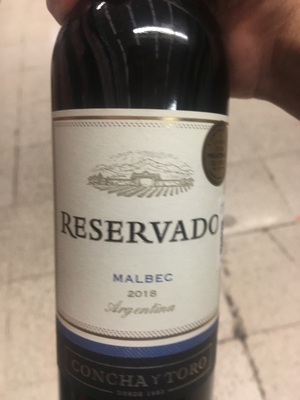reservado malbec: (55, 20, 228, 400)
